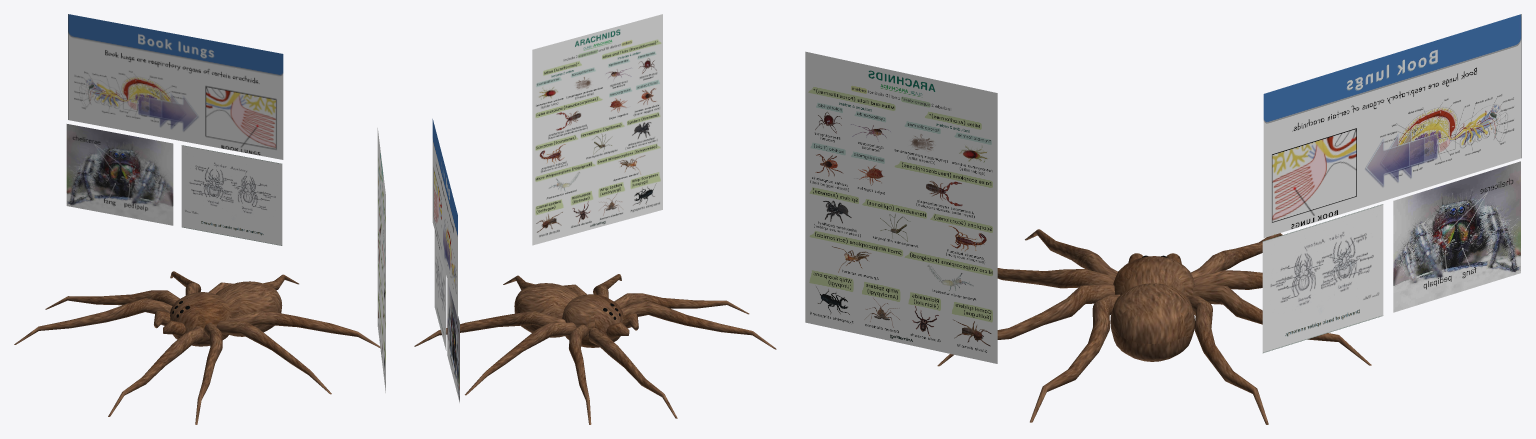
The model's file is arachnid.glb.
3 views of the same model, side by side, from view 1: azimuth 30°, elevation 25°; view 2: azimuth 150°, elevation 25°; view 3: azimuth 270°, elevation 25° (orthographic). The views are drawn at different scales.
Visible parts, largest first — view 1: book_lungs, Spider, chelicerae_zoom, chelicerae, arachnid_types; view 2: arachnid_types, Spider, book_lungs, chelicerae_zoom, chelicerae; view 3: arachnid_types, book_lungs, Spider, chelicerae_zoom, chelicerae.
Boxes of the visible parts, x1=… form: book_lungs: x1=68, y1=14, x2=283, y2=159; Spider: x1=14, y1=271, x2=380, y2=424; chelicerae_zoom: x1=66, y1=124, x2=173, y2=225; chelicerae: x1=181, y1=145, x2=282, y2=245; arachnid_types: x1=377, y1=128, x2=385, y2=392; arachnid_types: x1=532, y1=14, x2=662, y2=245; Spider: x1=414, y1=274, x2=776, y2=424; book_lungs: x1=432, y1=119, x2=457, y2=318; chelicerae_zoom: x1=447, y1=279, x2=459, y2=402; chelicerae: x1=434, y1=231, x2=446, y2=350; arachnid_types: x1=805, y1=51, x2=997, y2=363; book_lungs: x1=1263, y1=14, x2=1521, y2=237; Spider: x1=937, y1=229, x2=1371, y2=424; chelicerae_zoom: x1=1393, y1=161, x2=1520, y2=312; chelicerae: x1=1262, y1=204, x2=1383, y2=352.
Bounding box in the file's own units: 4.59 × 3.68 × 7.48.
6 materials, 5 textured.
